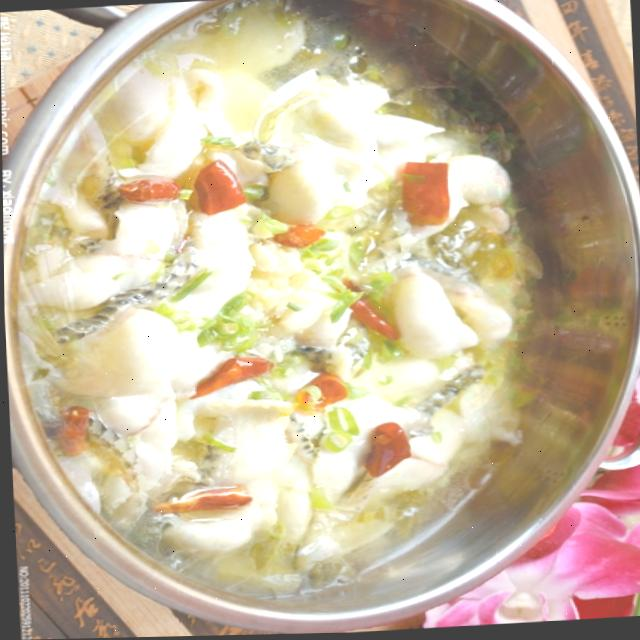汤锅炖物: (30, 0, 640, 616)
